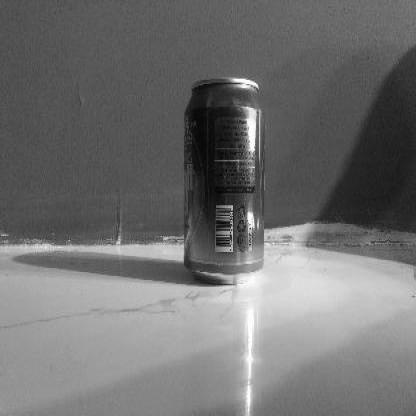alumunium_can: (182, 76, 267, 288)
